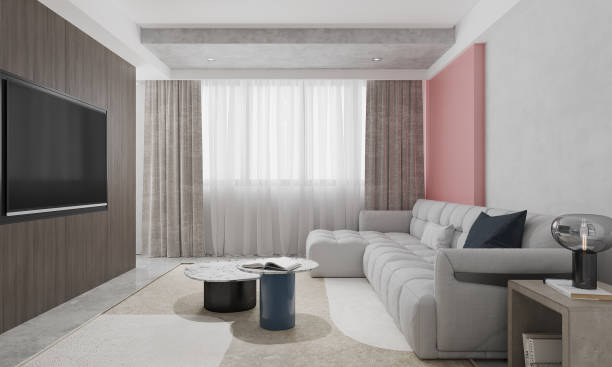TV: (1, 71, 110, 216)
sofa: (304, 195, 577, 356)
table: (238, 254, 319, 331), (184, 262, 258, 312)
table lamp: (542, 212, 612, 302)
